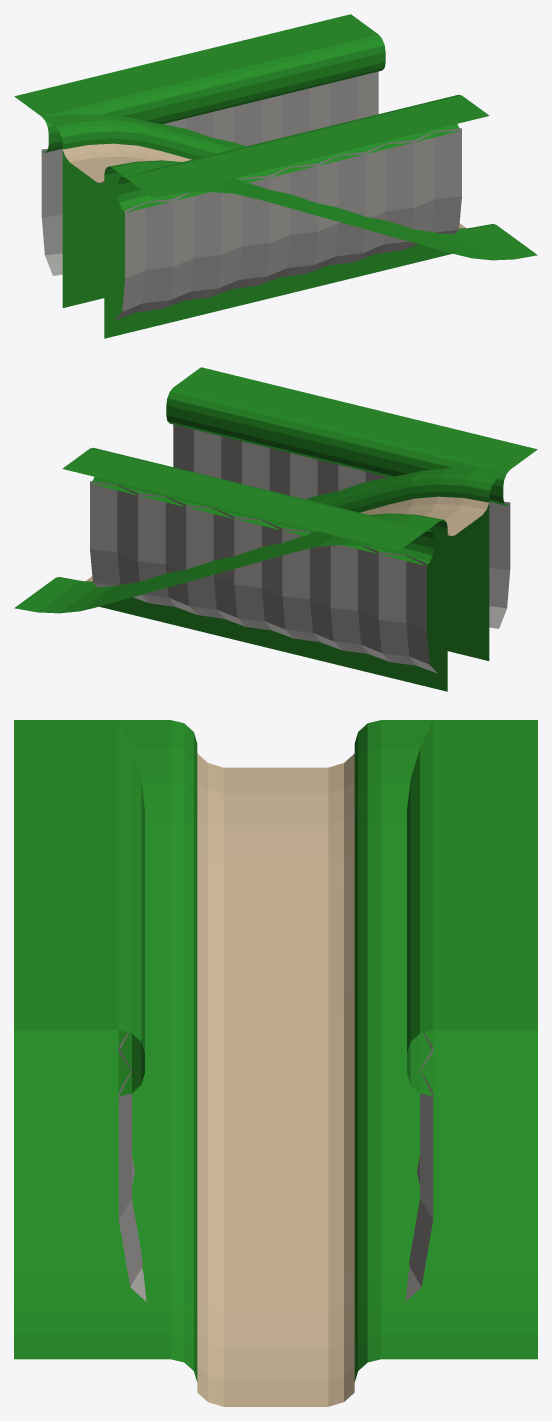
Rendered from Track_Cliff_Incline_Standard_3_Tall_Single.obj.
The picture shows the model from 3 angles, top to bottom: view 1: azimuth 30°, elevation 25°; view 2: azimuth 150°, elevation 25°; view 3: azimuth 270°, elevation 25°; orthographic projection. The views are drawn at different scales.
Parts seen in each view (by area): view 1: Grass, Rock, Dirt; view 2: Grass, Rock, Dirt; view 3: Grass, Dirt, Rock.
Part boxes in pixels (<box>): Grass: <box>14,14,537,338</box>; Rock: <box>41,71,461,320</box>; Dirt: <box>63,143,466,228</box>; Grass: <box>14,367,537,691</box>; Rock: <box>90,424,510,673</box>; Dirt: <box>85,496,488,581</box>; Grass: <box>14,720,537,1381</box>; Dirt: <box>197,753,354,1406</box>; Rock: <box>118,1032,433,1301</box>.
Size of the model in its own units: 8 by 3.5 by 5.
